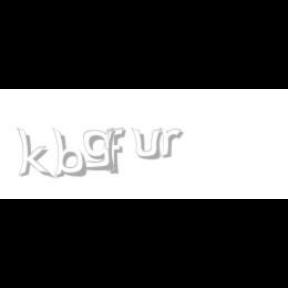b: (52, 128, 90, 178)
f: (105, 128, 129, 174)
g: (82, 128, 119, 171)
k: (16, 128, 54, 180)
r: (160, 128, 186, 158)
u: (130, 128, 165, 160)
